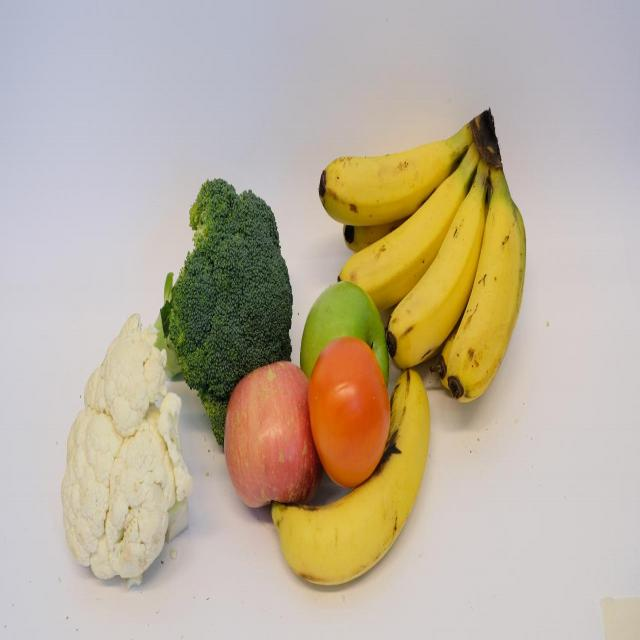apple: (223, 361, 324, 509), (300, 279, 390, 402)
banana: (269, 367, 434, 592), (442, 187, 532, 403), (388, 182, 489, 367), (338, 171, 474, 303), (314, 125, 456, 222)
broccoli: (152, 176, 292, 452)
cauliflower: (58, 310, 195, 586)
tomato: (307, 336, 391, 489)
